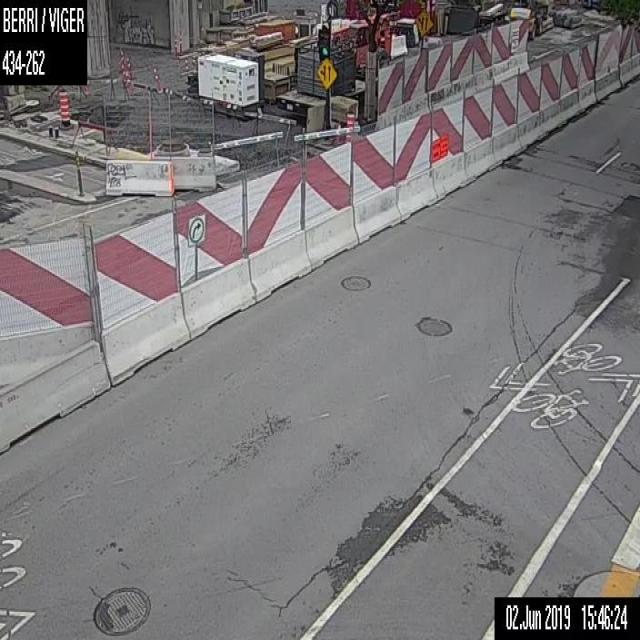construction: (58, 88, 70, 125), (344, 108, 356, 140)
